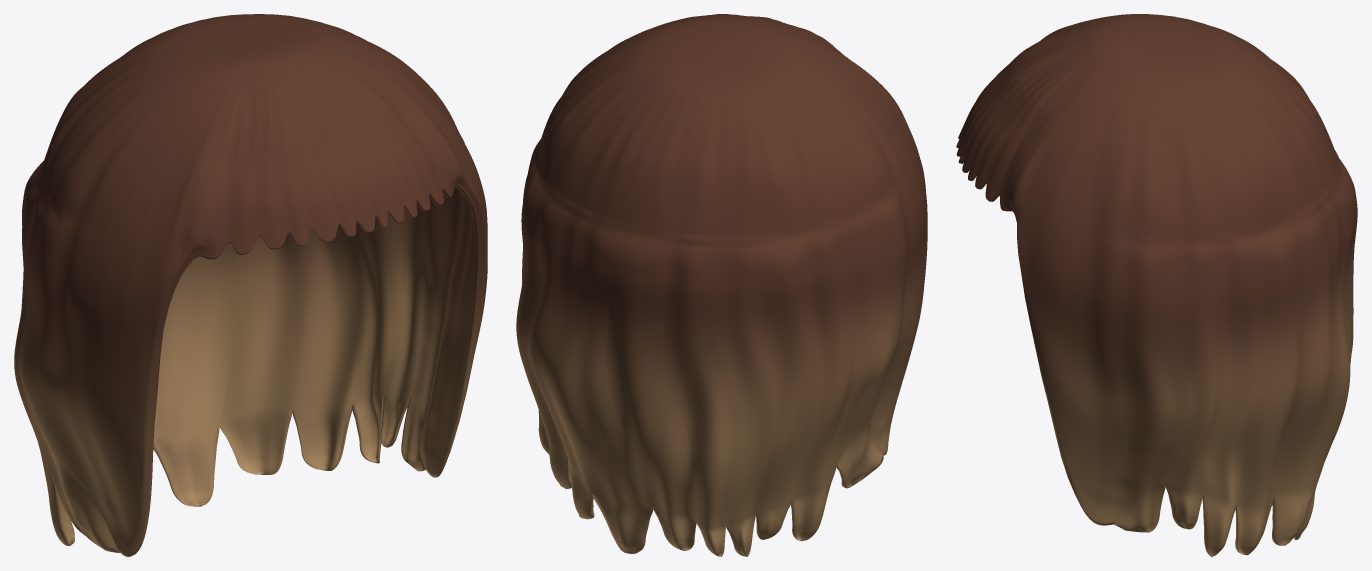
The model's file is long-bucket-ombre.glb.
The picture shows the model from 3 angles, left to right: view 1: azimuth 30°, elevation 25°; view 2: azimuth 150°, elevation 25°; view 3: azimuth 270°, elevation 25°; orthographic projection. The views are drawn at different scales.
Parts seen in each view (by area): view 1: Hair / rounded long fringe; view 2: Hair / rounded long fringe; view 3: Hair / rounded long fringe.
Boxes of the visible parts, box(x1,y1,x2,y2) form: Hair / rounded long fringe: box(14, 14, 487, 556); Hair / rounded long fringe: box(516, 14, 927, 556); Hair / rounded long fringe: box(956, 14, 1357, 556).
Size of the model in its own units: 0.8534 by 1.05 by 0.7801.
